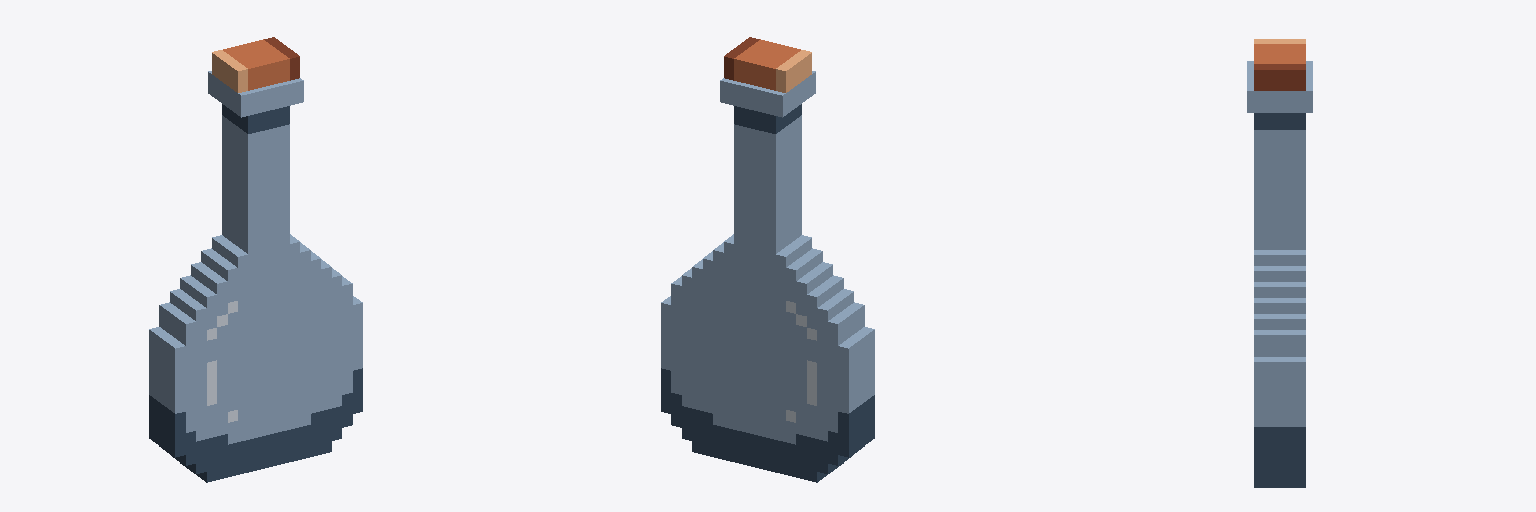
Rendered from Jar2.obj.
3 views of the same model, side by side, from view 1: azimuth 30°, elevation 25°; view 2: azimuth 150°, elevation 25°; view 3: azimuth 270°, elevation 25° (orthographic).
Bounding box in the file's own units: 18 × 37 × 5.5.